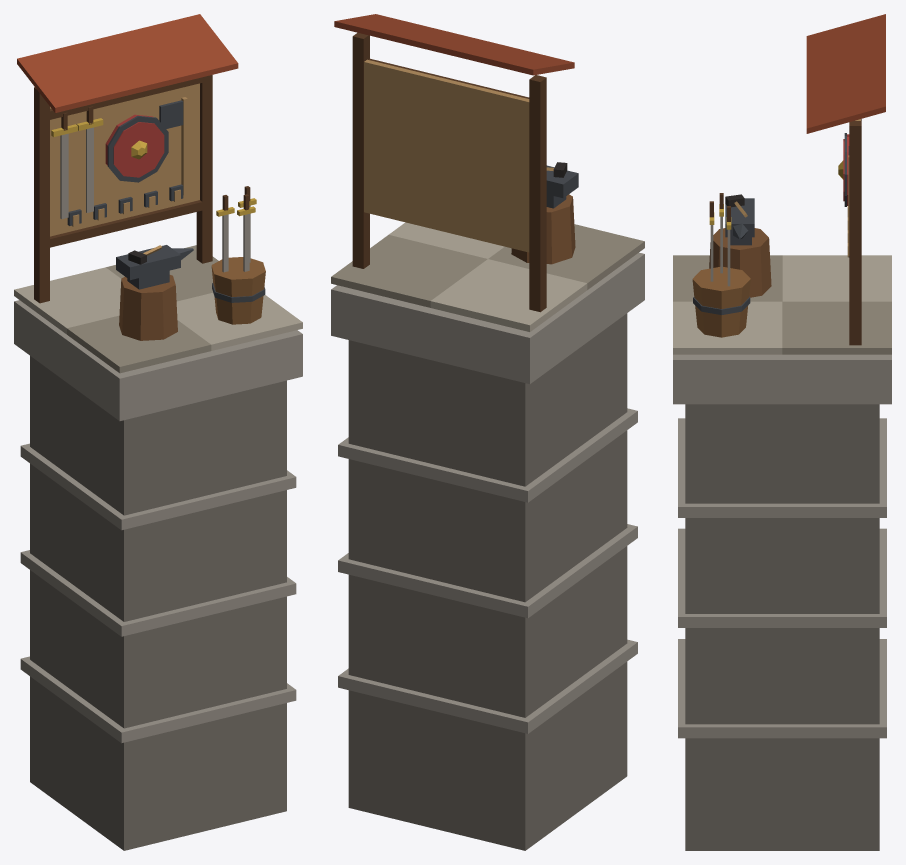
File: decor_smith_rack.glb
The picture shows the model from 3 angles, left to right: view 1: azimuth 30°, elevation 25°; view 2: azimuth 150°, elevation 25°; view 3: azimuth 270°, elevation 25°; orthographic projection. The views are drawn at different scales.
Parts seen in each view (by area): view 1: decor_smith_rack; view 2: decor_smith_rack; view 3: decor_smith_rack.
Part boxes in pixels (x1,y1,x2,y2): decor_smith_rack: (14, 14, 302, 850); decor_smith_rack: (331, 14, 644, 850); decor_smith_rack: (673, 14, 891, 850).
Bounding box in the file's own units: 1.8 × 6.8 × 1.8.
